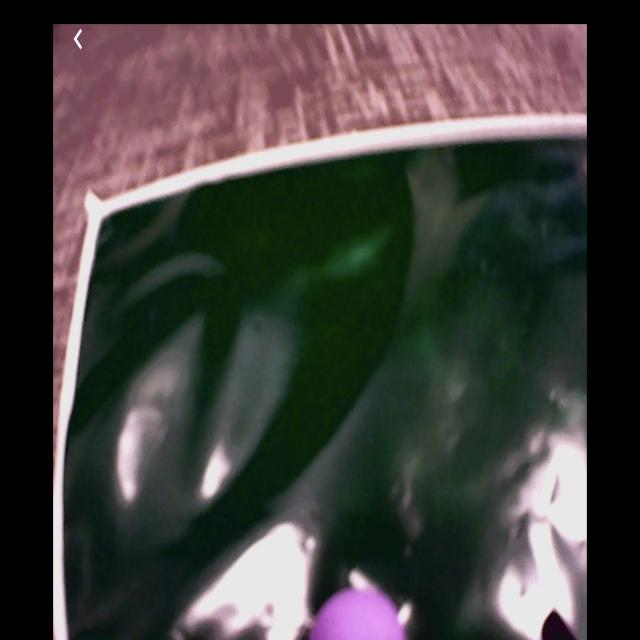ball: (314, 587, 405, 640)
